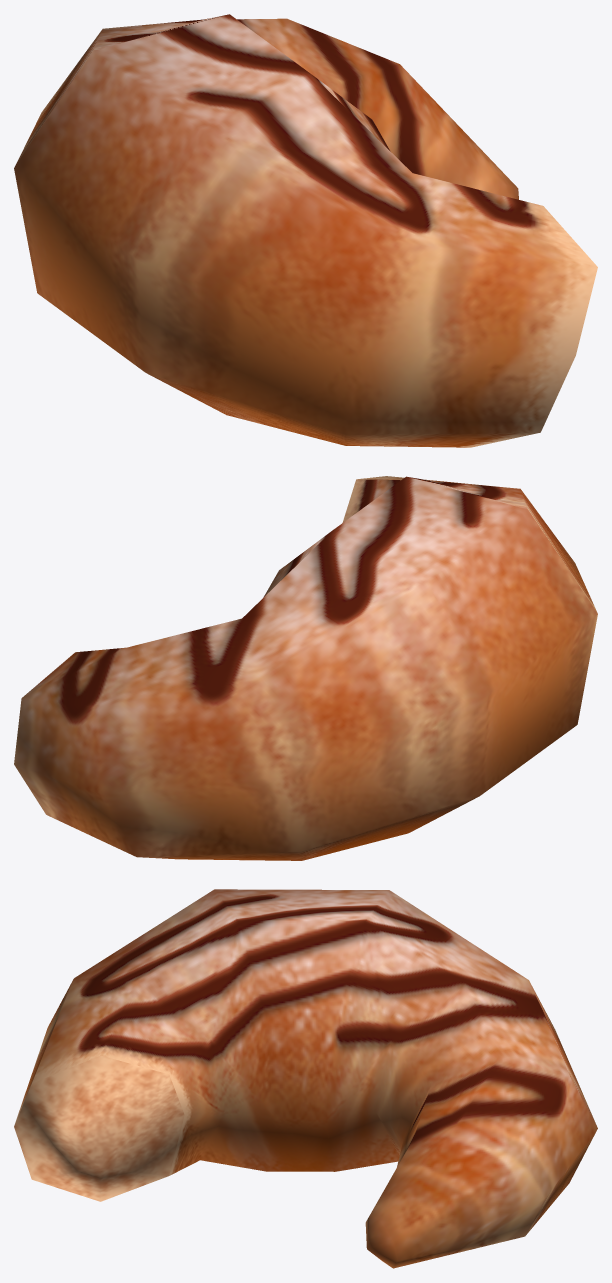
The model's file is Croissant_Bitten_02.fbx.
The picture shows the model from 3 angles, top to bottom: view 1: azimuth 30°, elevation 25°; view 2: azimuth 150°, elevation 25°; view 3: azimuth 270°, elevation 25°; orthographic projection. The views are drawn at different scales.
Visible parts, largest first — view 1: Croissant_Bitten_02; view 2: Croissant_Bitten_02; view 3: Croissant_Bitten_02.
Boxes of the visible parts, x1,y1,x2,y2 form: Croissant_Bitten_02: (14,14,597,447); Croissant_Bitten_02: (14,476,597,860); Croissant_Bitten_02: (14,889,597,1268).
Bounding box in the file's own units: 35.3 × 21.83 × 45.34.
